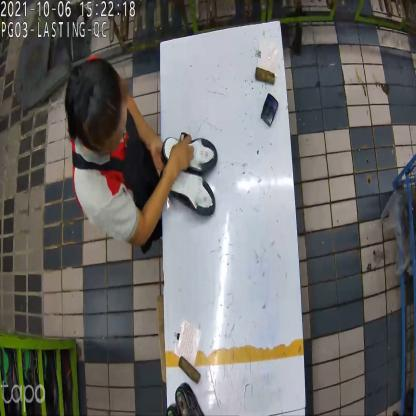shoes: (158, 130, 218, 217)
stamp: (175, 132, 195, 172), (258, 93, 278, 128)
